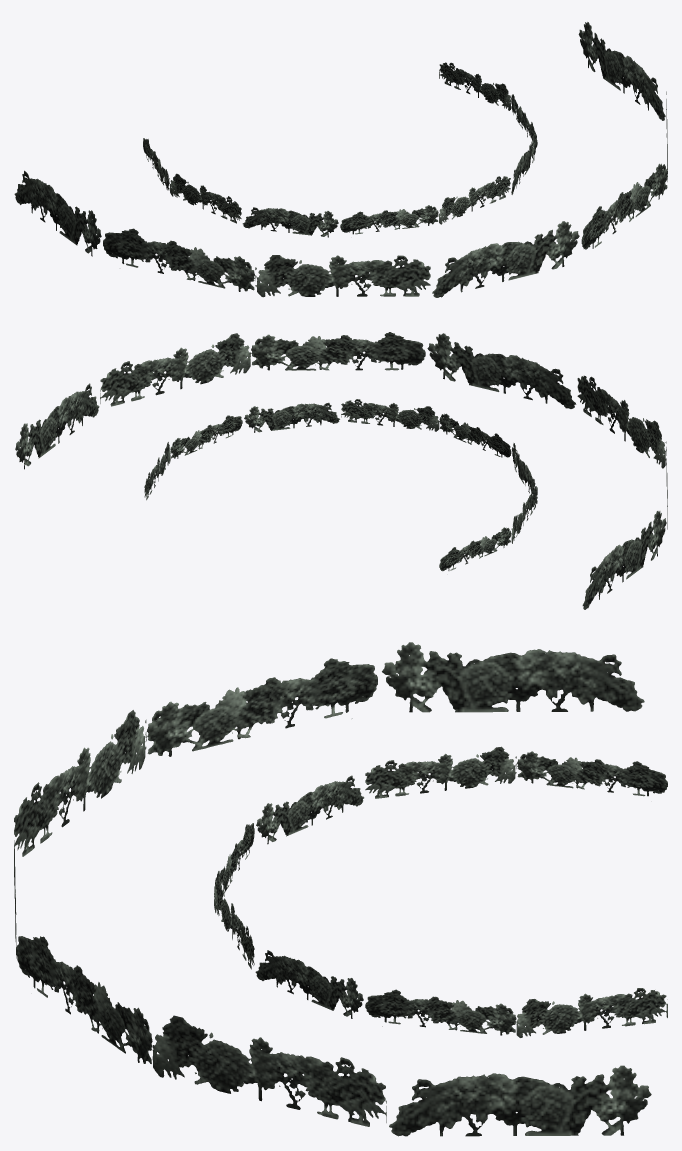
Rendered from environment_ext.fbx.
3 renders of one model, top to bottom at view 1: azimuth 30°, elevation 25°; view 2: azimuth 150°, elevation 25°; view 3: azimuth 270°, elevation 25°, orthographic. The views are drawn at different scales.
Visible parts, largest first — view 1: polySurface1707; view 2: polySurface1707; view 3: polySurface1707.
Part boxes in pixels (x1=…): polySurface1707: x1=14, y1=22, x2=667, y2=297; polySurface1707: x1=15, y1=332, x2=667, y2=609; polySurface1707: x1=14, y1=642, x2=667, y2=1136.
Size of the model in its own units: 20889 by 1607 by 13588.
